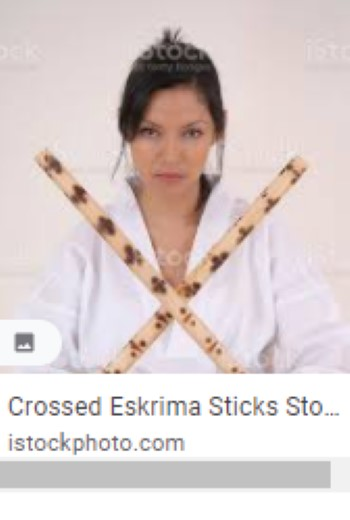baston_v: (207, 355, 265, 389), (84, 360, 133, 393), (27, 142, 62, 176), (283, 146, 315, 181)
